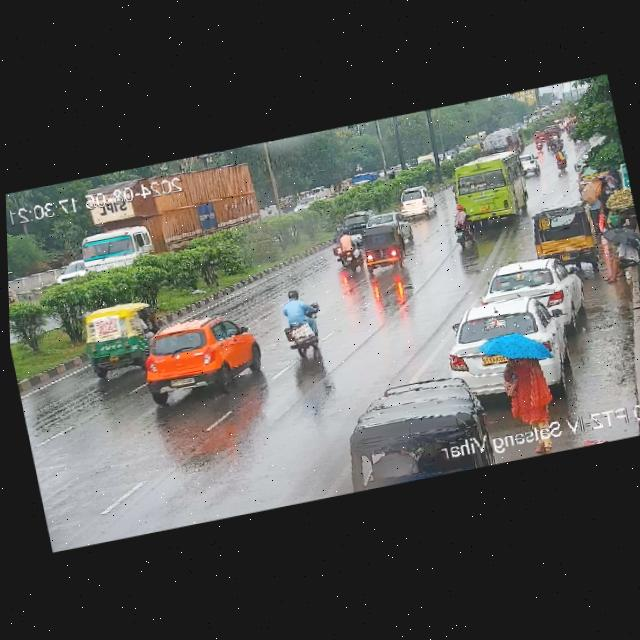bus: (446, 149, 533, 228)
car: (434, 280, 588, 386), (474, 251, 590, 341), (77, 300, 156, 368), (393, 184, 434, 222), (334, 208, 378, 238), (362, 211, 404, 233), (52, 261, 88, 285), (518, 150, 543, 177)
motorcycle: (277, 284, 329, 363), (330, 228, 361, 269), (554, 149, 569, 175), (532, 131, 546, 153), (547, 136, 564, 151)
person: (495, 347, 563, 461), (573, 158, 622, 227), (593, 218, 640, 283)
truck: (65, 148, 275, 274), (132, 305, 269, 412), (526, 199, 603, 282), (355, 220, 415, 279), (477, 125, 521, 157)
